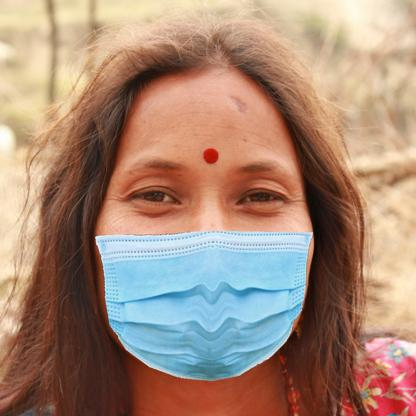mask: (91, 231, 317, 381)
